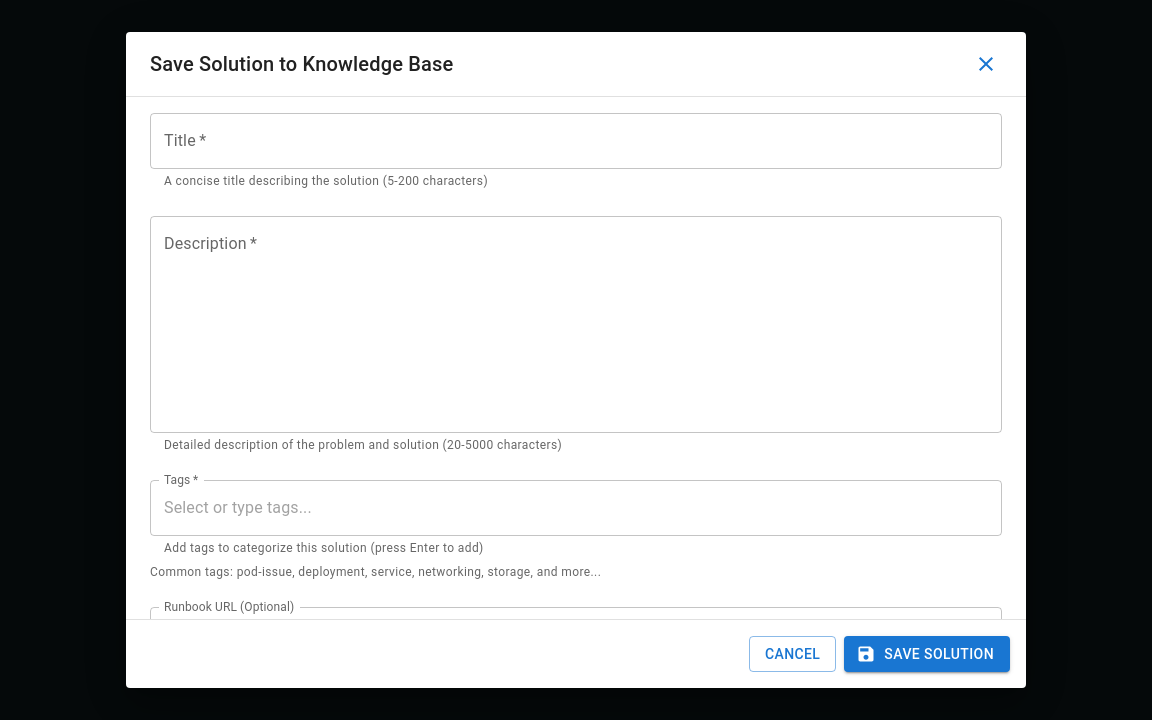
Scenario: SolutionSubmitDialog › Field Validation › should show error for empty title
Click the button "Save Solution" at (927, 654), box top-left (844, 636), bottom-right (1010, 672)
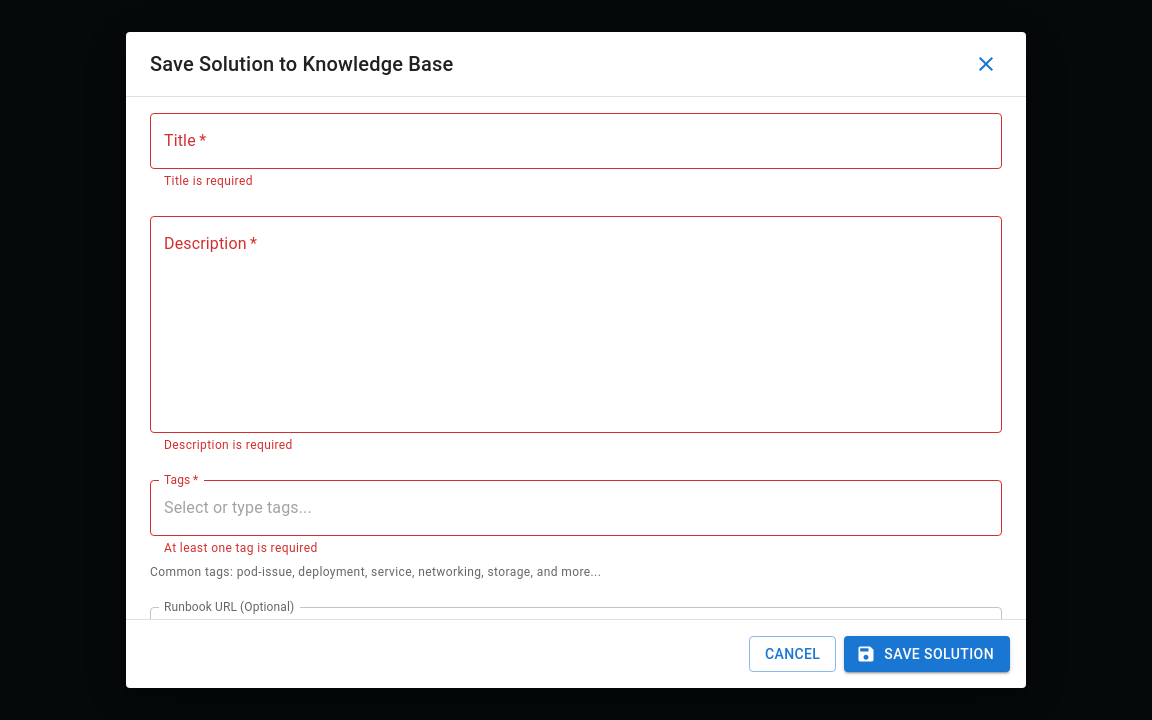
Expected: the text "Title is required" is shown, top-left (164, 174), bottom-right (253, 188)
